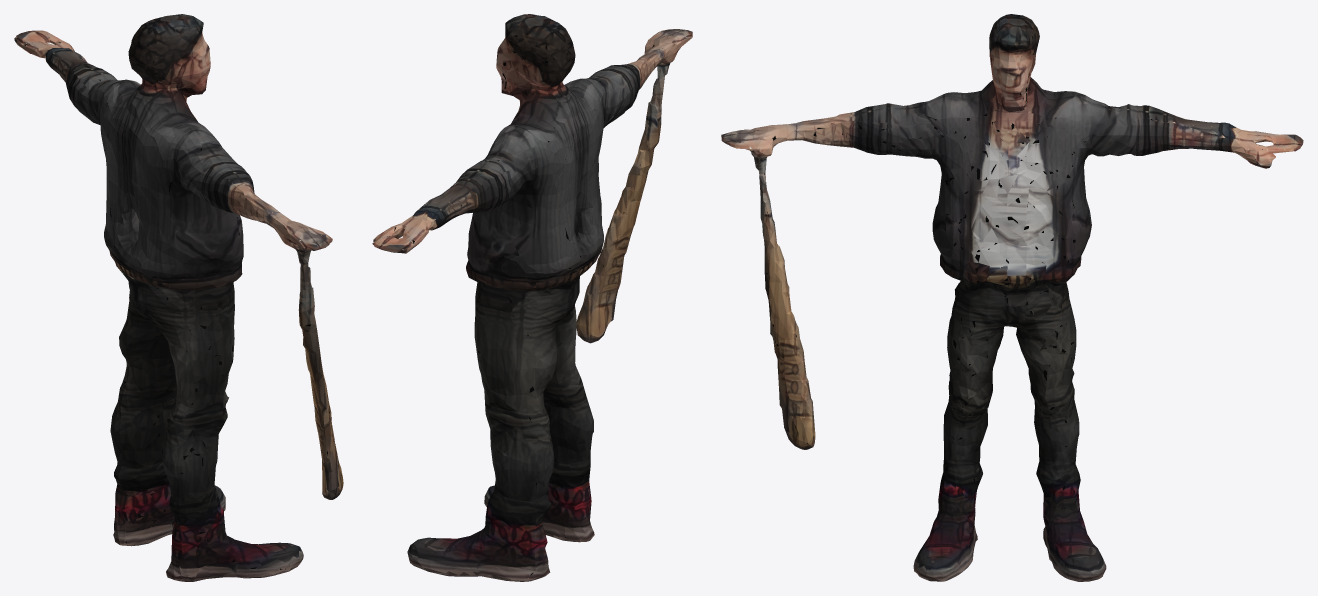
File: monster_gangster_2.glb
The picture shows the model from 3 angles, left to right: view 1: azimuth 30°, elevation 25°; view 2: azimuth 150°, elevation 25°; view 3: azimuth 270°, elevation 25°; orthographic projection. The views are drawn at different scales.
Visible parts, largest first — view 1: zzzz18; view 2: zzzz18; view 3: zzzz18.
Part boxes in pixels (left/top/right/bottom): zzzz18: left=14, top=14, right=343, bottom=581; zzzz18: left=372, top=14, right=692, bottom=581; zzzz18: left=721, top=14, right=1303, bottom=581.
Size of the model in its own units: 0.7073 by 2.57 by 2.58.
1 material, 1 textured.
